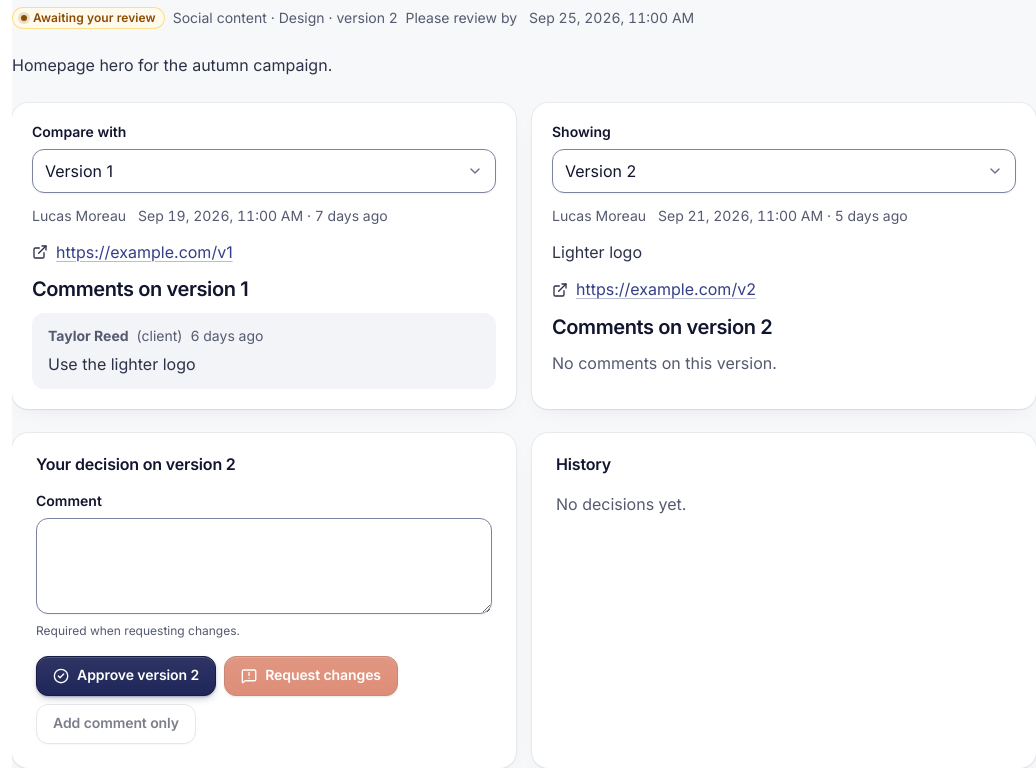
Test: Client approvals › reloads when the version is outdated
The width and height of the screenshot is (1036, 768).
(page scrolled)
Click the button "Approve version 2". click: click(126, 676)
box: x1=36 y1=656 x2=216 y2=696
(page scrolled)
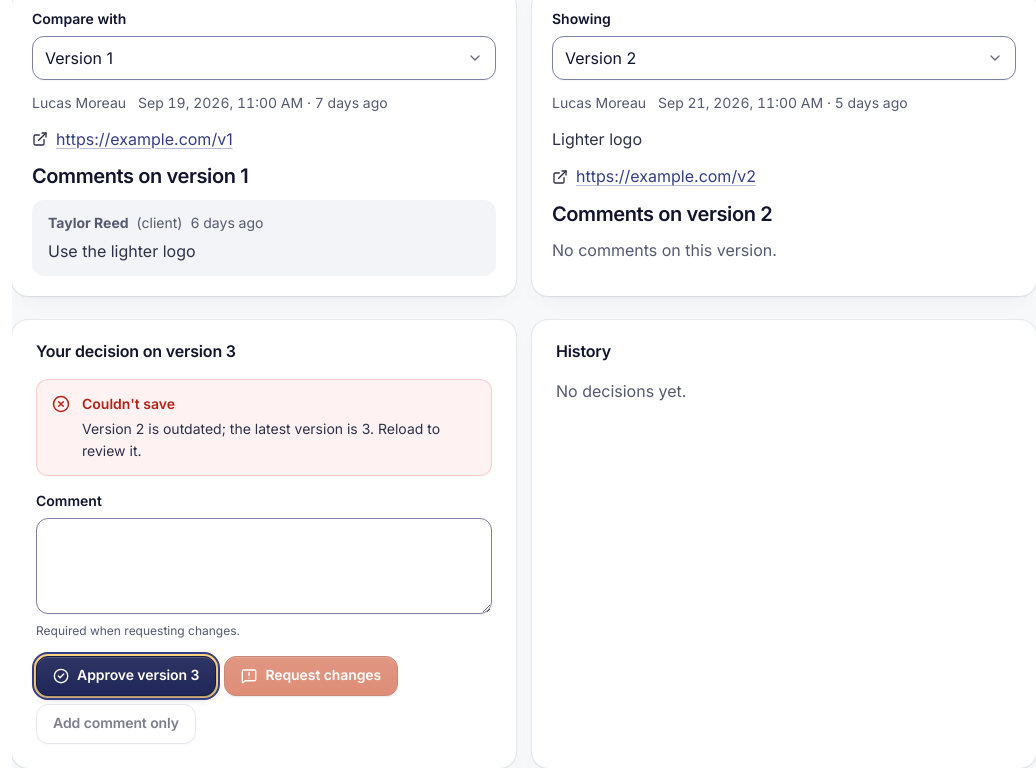
Check: the text "Version 2 is outdated" is shown, box x1=82 y1=420 x2=440 y2=459
Check: the button "Approve version 3" is shown, box x1=36 y1=656 x2=216 y2=696
